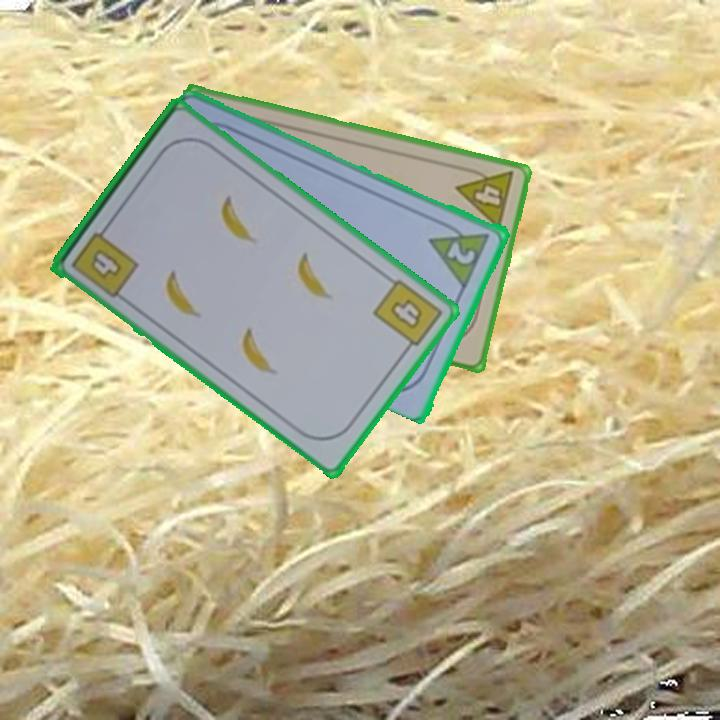2p: (426, 216, 494, 289)
4b: (369, 275, 446, 357), (90, 249, 125, 281)
4p: (452, 162, 517, 233)
